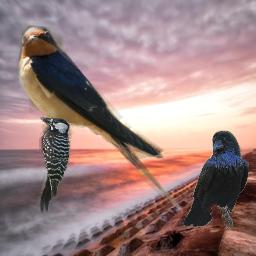Crow: (184, 130, 249, 229)
Swallow: (17, 25, 185, 214)
Woodpecker: (38, 115, 72, 213)
